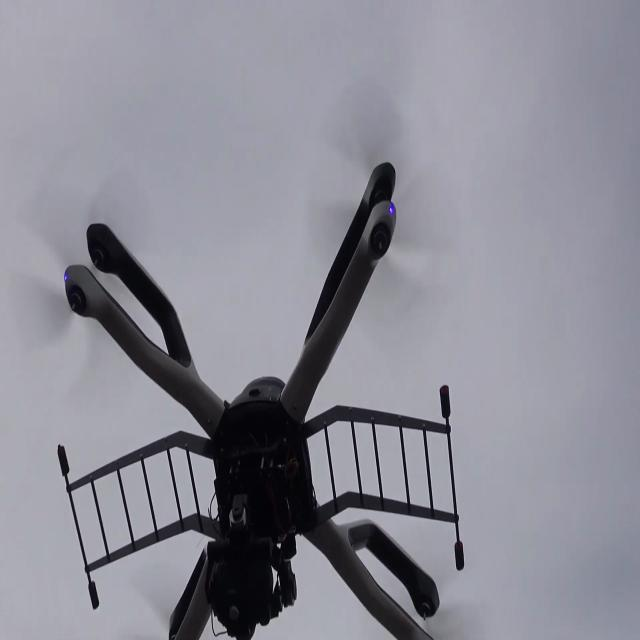drone: (39, 176, 480, 640)
